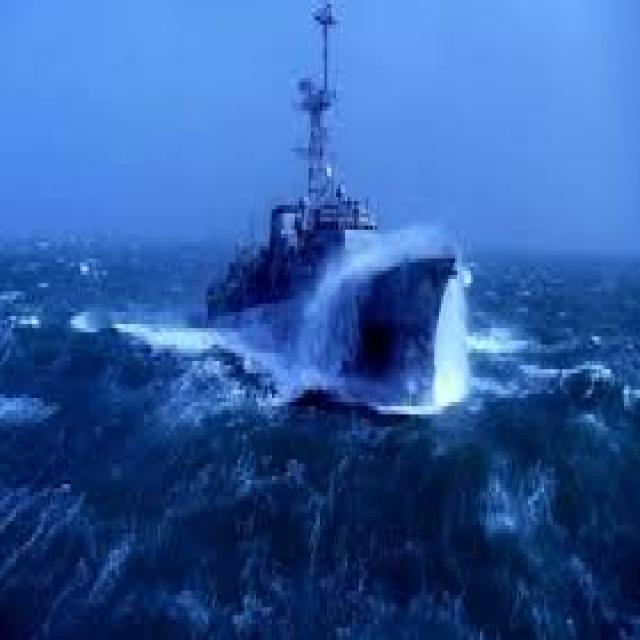navalvessels: (199, 7, 460, 386)
